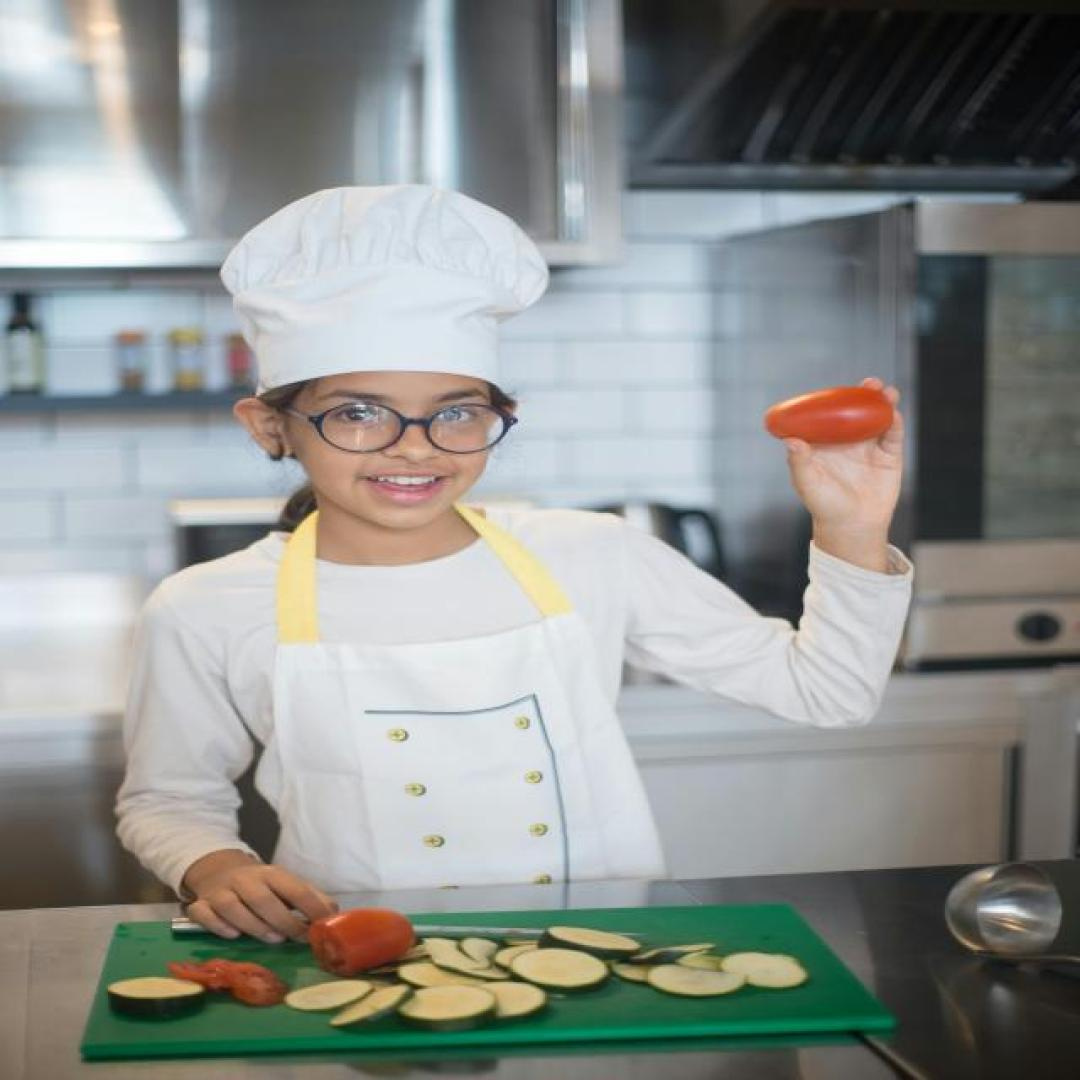matang: (763, 388, 896, 446), (310, 910, 417, 972)
